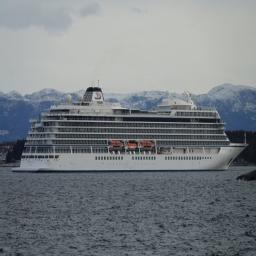cruises: (11, 84, 251, 176)
